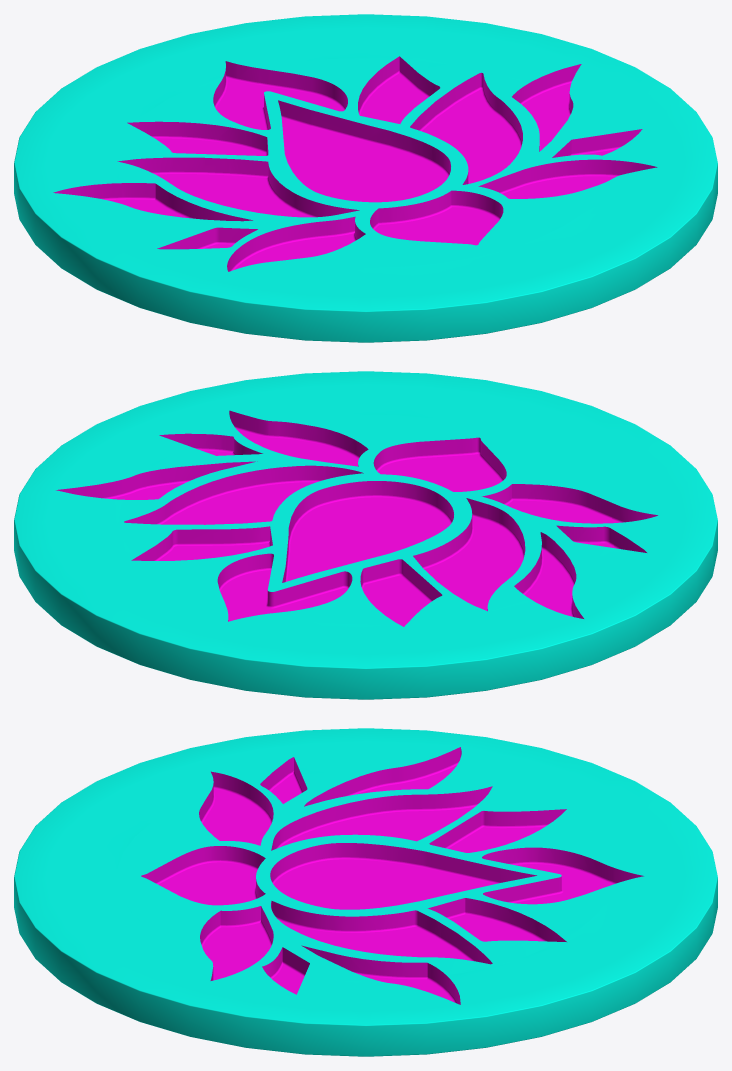
The model's file is Lotus_Cut.fbx.
The picture shows the model from 3 angles, top to bottom: view 1: azimuth 30°, elevation 25°; view 2: azimuth 150°, elevation 25°; view 3: azimuth 270°, elevation 25°; orthographic projection.
Parts seen in each view (by area): view 1: Lotus3, Lotus2, Lotus1; view 2: Lotus3, Lotus2, Lotus1; view 3: Lotus3, Lotus2, Lotus1.
Boxes of the visible parts, bbox=[...] form: Lotus3: bbox=[14, 14, 717, 342]; Lotus2: bbox=[117, 58, 613, 268]; Lotus1: bbox=[229, 106, 497, 235]; Lotus3: bbox=[14, 371, 717, 699]; Lotus2: bbox=[119, 414, 614, 626]; Lotus1: bbox=[233, 463, 502, 592]; Lotus3: bbox=[14, 728, 717, 1056]; Lotus2: bbox=[117, 771, 612, 992]; Lotus1: bbox=[231, 828, 499, 948].
Bounding box in the file's own units: 817 × 40.88 × 817.
